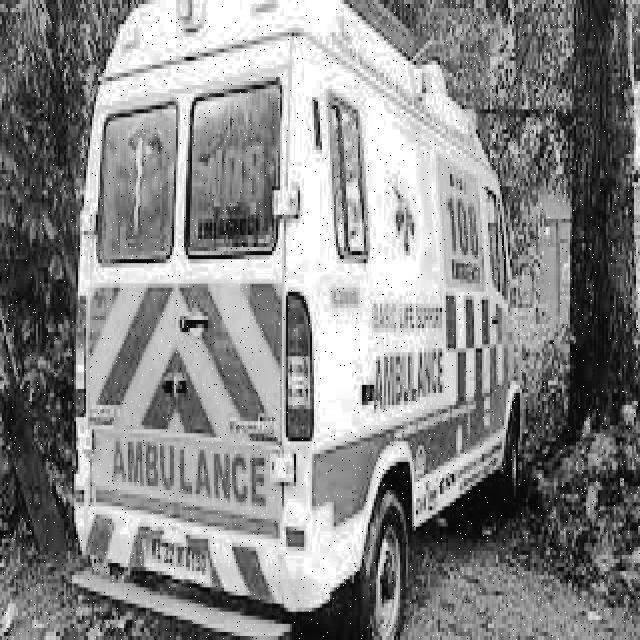LCV: (75, 12, 305, 602)
